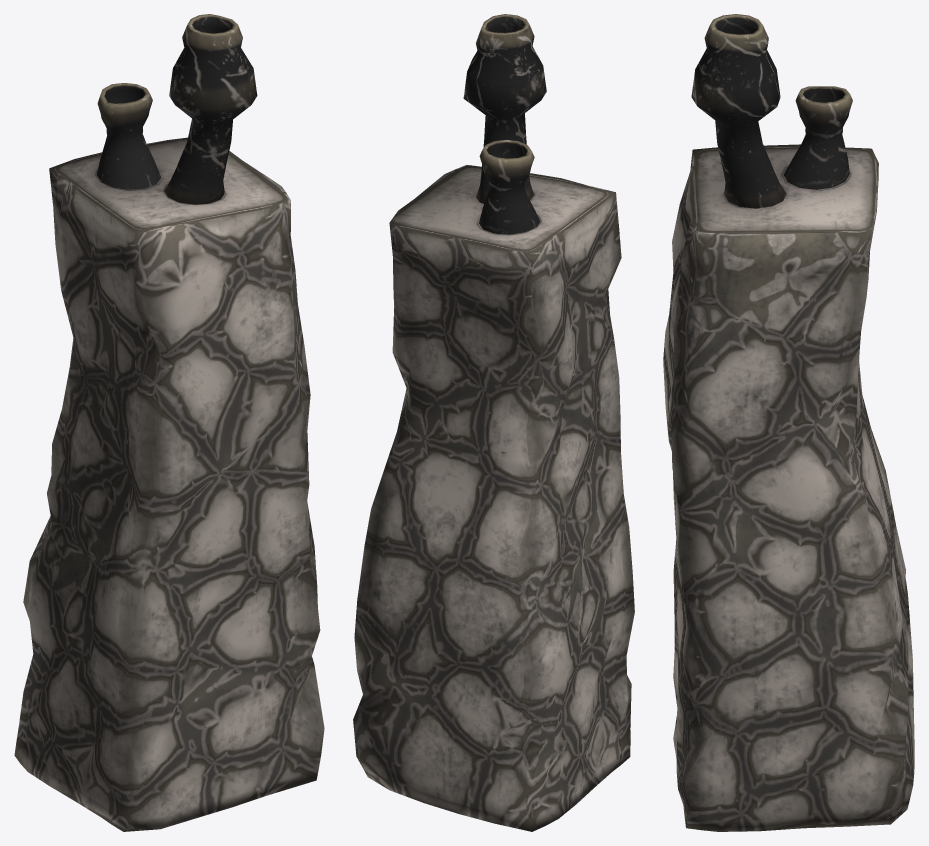
3 renders of one model, left to right at view 1: azimuth 30°, elevation 25°; view 2: azimuth 150°, elevation 25°; view 3: azimuth 270°, elevation 25°, orthographic. The views are drawn at different scales.
Visible parts, largest first — view 1: Chimney.001; view 2: Chimney.001; view 3: Chimney.001.
Part boxes in pixels (x1,y1,x2,y2): Chimney.001: (14,14,324,831); Chimney.001: (353,14,634,831); Chimney.001: (663,14,914,831).
Size of the model in its own units: 140 by 481 by 142.
